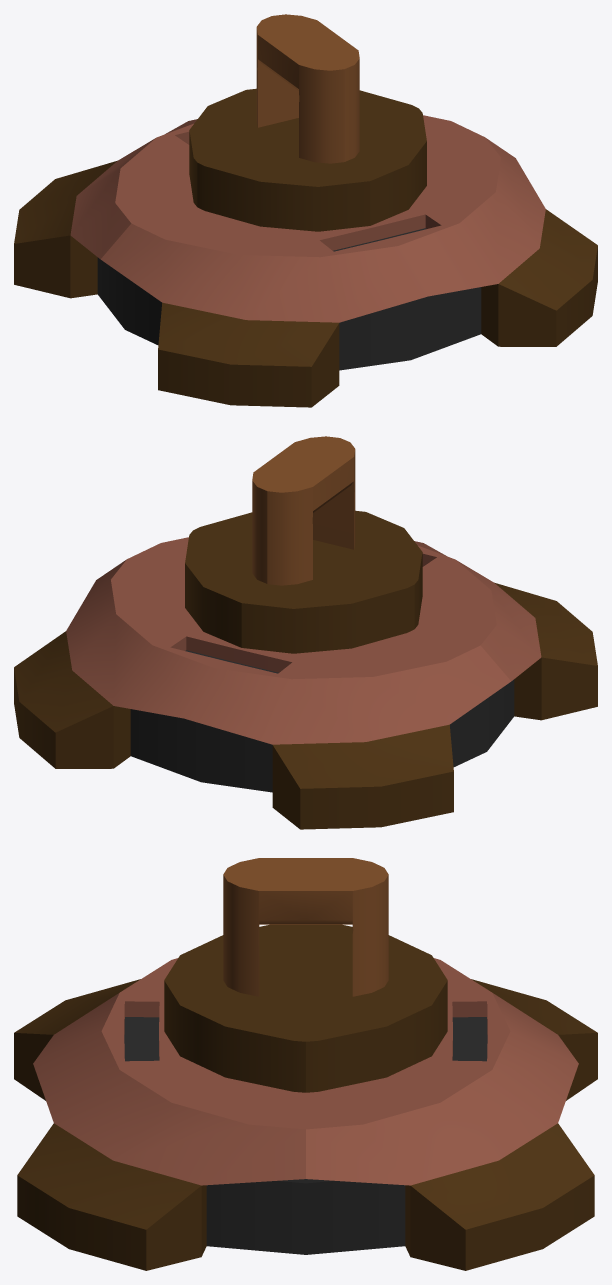
The model's file is Voet Poot Links voor.fbx.
3 renders of one model, top to bottom at view 1: azimuth 30°, elevation 25°; view 2: azimuth 150°, elevation 25°; view 3: azimuth 270°, elevation 25°, orthographic. The views are drawn at different scales.
Visible parts, largest first — view 1: Cylinder.011; view 2: Cylinder.011; view 3: Cylinder.011.
Part boxes in pixels (<box>): Cylinder.011: <box>14,14,597,407</box>; Cylinder.011: <box>14,436,597,829</box>; Cylinder.011: <box>14,858,597,1270</box>.
Size of the model in its own units: 742 by 389 by 746.
